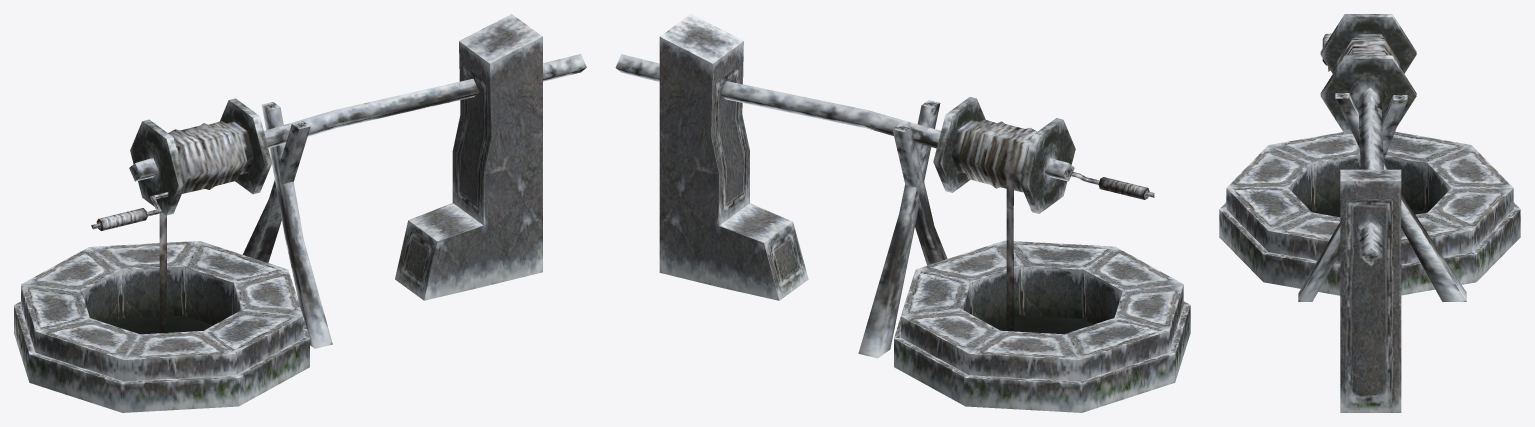
The model's file is Item_04.FBX.
The picture shows the model from 3 angles, left to right: view 1: azimuth 30°, elevation 25°; view 2: azimuth 150°, elevation 25°; view 3: azimuth 270°, elevation 25°; orthographic projection.
Parts seen in each view (by area): view 1: item_04; view 2: item_04; view 3: item_04.
Part boxes in pixels (box(x1,y1,x2,y2)): item_04: box(14, 14, 586, 412); item_04: box(615, 14, 1190, 412); item_04: box(1219, 14, 1520, 412).
Size of the model in its own units: 437 by 178 by 210.
